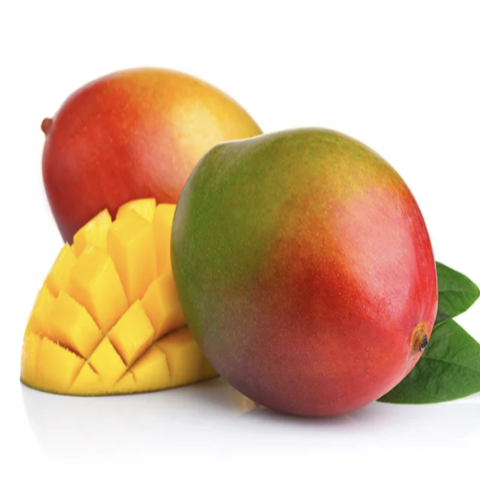mango: (158, 120, 459, 425), (16, 56, 297, 297)
